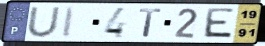2: (173, 7, 199, 40)
4: (100, 6, 129, 40)
E: (201, 6, 237, 40)
I: (61, 5, 78, 39)
T: (137, 7, 164, 39)
U: (26, 6, 62, 38)
